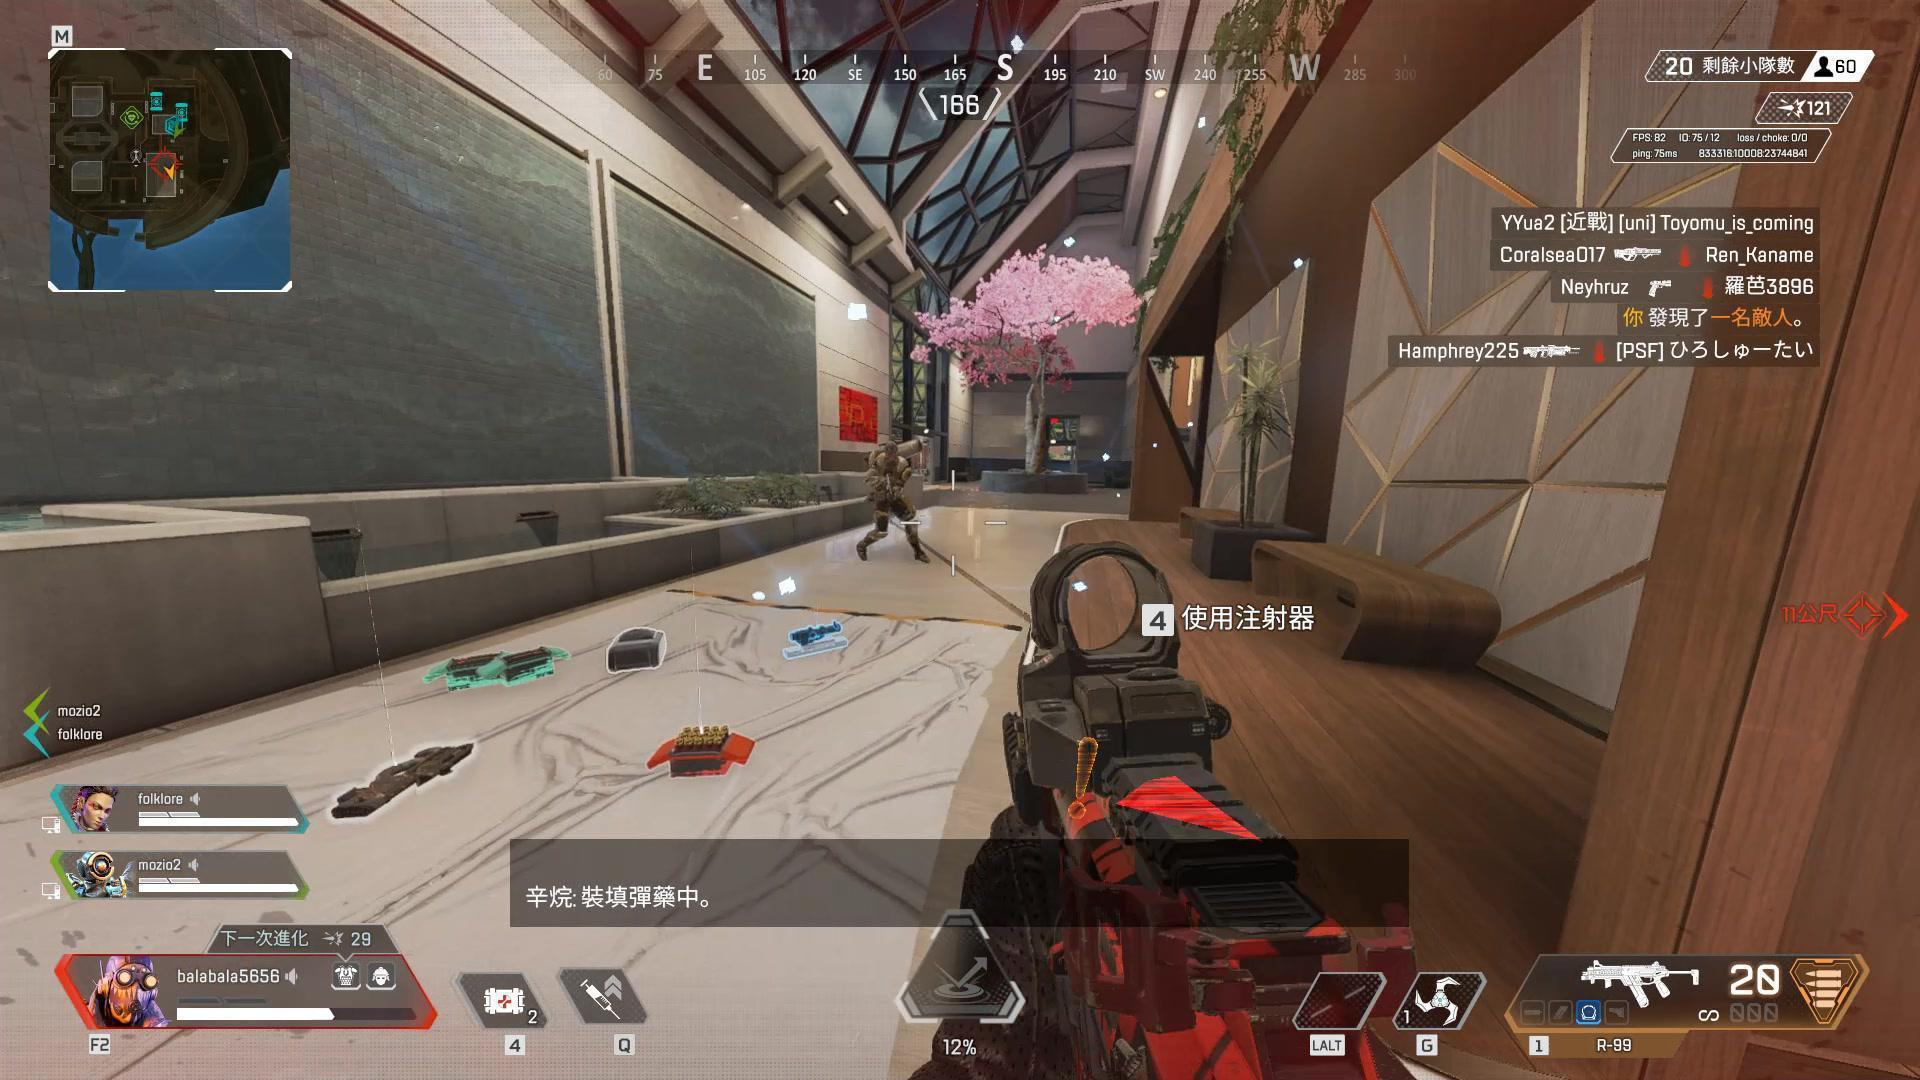avatar: (854, 438, 926, 565)
